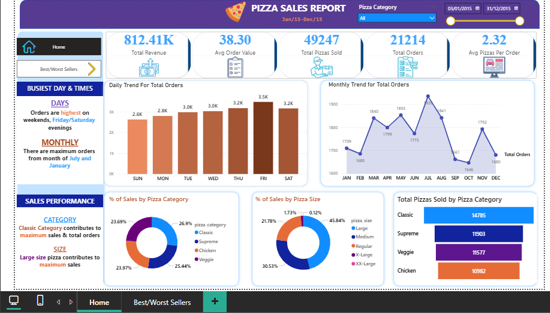

The dashboard page shown, as its layout file describes it:
{"tool":"powerbi","page":{"name":"Home","canvas":[1500,820],"ordinal":0},"visuals":[{"type":"textbox","box":[729.8,35.7,154.8,34],"z":0},{"type":"shape","box":[0,83.4,262,731.5],"z":1000},{"type":"cardVisual","fields":{"Data":["pizza_sales.Total Revenue","pizza_sales.Avg Order Value","pizza_sales.Total Pizzas Sold","pizza_sales.Total Orders","pizza_sales.Avg Pizzas Per Order"]},"box":[250.1,83.4,1238.5,149.7],"z":2000},{"type":"shape","box":[13.6,0,1475,83.4],"z":3000},{"type":"textbox","box":[665,0,285,50],"z":4000},{"type":"image","box":[563.1,5.1,125.9,59.5],"z":5000},{"type":"textbox","box":[5.1,233.1,245,40.8],"z":6000},{"type":"shape","box":[245,221.2,593.7,316.4],"z":7000},{"type":"columnChart","title":"Daily Trend For Total Orders","fields":{"Category":["pizza_sales.Order Day"],"Y":["pizza_sales.Total Orders"]},"box":[262,233.1,576.7,292.6],"z":8000},{"type":"shape","box":[859.1,221.2,622.7,316.4],"z":9000},{"type":"shape","box":[245,537.6,398.1,282.4],"z":10000},{"type":"shape","box":[1066.7,537.6,421.9,282.4],"z":11000},{"type":"shape","box":[665.2,537.6,389.6,282.4],"z":12000},{"type":"donutChart","title":"% of Sales by Pizza Category","fields":{"Category":["pizza_sales.pizza_category"],"Y":["pizza_sales.Total Revenue"]},"box":[262,552.9,364.1,250.1],"z":13000},{"type":"donutChart","title":"% of Sales by Pizza Size","fields":{"Category":["pizza_sales.pizza_size"],"Y":["pizza_sales.Total Revenue"]},"box":[677.1,552.9,364.1,250.1],"z":14000},{"type":"funnel","title":"Total Pizzas Sold by Pizza Category","fields":{"Category":["pizza_sales.pizza_category"],"Y":["pizza_sales.Total Pizzas Sold"]},"box":[1080.3,552.9,401.5,250.1],"z":15000},{"type":"areaChart","title":"Monthly Trend for Total Orders","fields":{"Category":["pizza_sales.Order Month"],"Y":["pizza_sales.Total Orders"]},"box":[884.6,231.4,581.8,292.6],"z":16000},{"type":"textbox","box":[5.1,588.6,245,231.4],"z":17000},{"type":"textbox","box":[5.1,552.9,245,35.7],"z":18000},{"type":"textbox","box":[5.1,273.9,245,250.1],"z":19000},{"type":"textbox","box":[729.8,40.8,170.1,28.9],"z":20000},{"type":"slicer","fields":{"Values":["pizza_sales.pizza_category"]},"box":[962.9,5.1,243.3,64.6],"z":21000},{"type":"slicer","fields":{"Values":["pizza_sales.order_date"]},"box":[1206.2,0,246.7,83.4],"z":22000}]}

Visuals, with their boxes on the page's 1500x820 design canvas (x1, y1, x2, y2). These are canvas units, not pixel positions in the 550x313 screenshot, which may show the page scaled, cropped or inside an application window:
textbox: 730/36/885/70
shape: 0/83/262/815
cardVisual - pizza_sales.Total Revenue x pizza_sales.Avg Order Value: 250/83/1489/233
shape: 14/0/1489/83
textbox: 665/0/950/50
image: 563/5/689/65
textbox: 5/233/250/274
shape: 245/221/839/538
"Daily Trend For Total Orders" columnChart: 262/233/839/526
shape: 859/221/1482/538
shape: 245/538/643/820
shape: 1067/538/1489/820
shape: 665/538/1055/820
"% of Sales by Pizza Category" donutChart: 262/553/626/803
"% of Sales by Pizza Size" donutChart: 677/553/1041/803
"Total Pizzas Sold by Pizza Category" funnel: 1080/553/1482/803
"Monthly Trend for Total Orders" areaChart: 885/231/1466/524
textbox: 5/589/250/820
textbox: 5/553/250/589
textbox: 5/274/250/524
textbox: 730/41/900/70
slicer - pizza_sales.pizza_category: 963/5/1206/70
slicer - pizza_sales.order_date: 1206/0/1453/83
